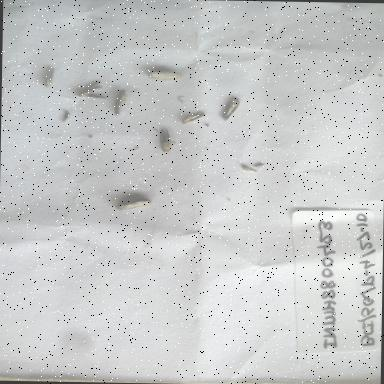pbw: (220, 96, 244, 124), (78, 80, 108, 102), (155, 127, 176, 155), (111, 89, 132, 117), (114, 198, 153, 213), (146, 68, 182, 84), (178, 110, 207, 125), (41, 66, 59, 88)
